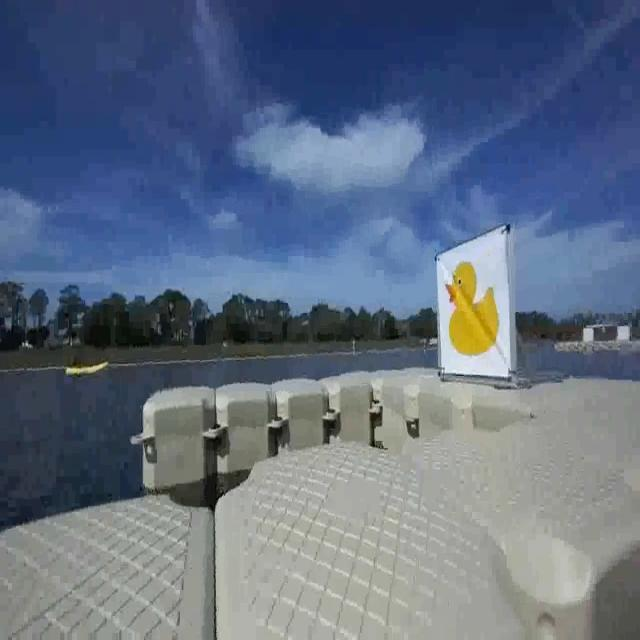yellow-duck: (438, 244, 513, 379)
